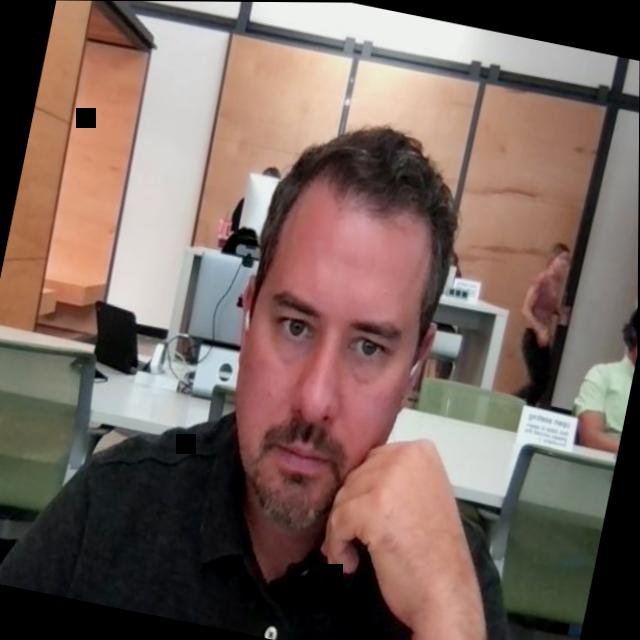NO-Mask: (205, 106, 475, 555), (542, 236, 576, 284)
